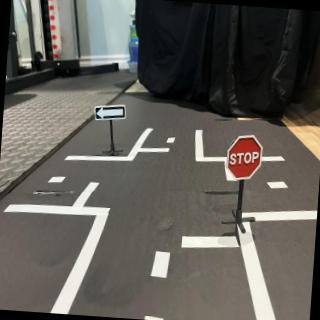sign_oneway_left: (94, 102, 129, 126)
sign_stop: (227, 136, 264, 181)
